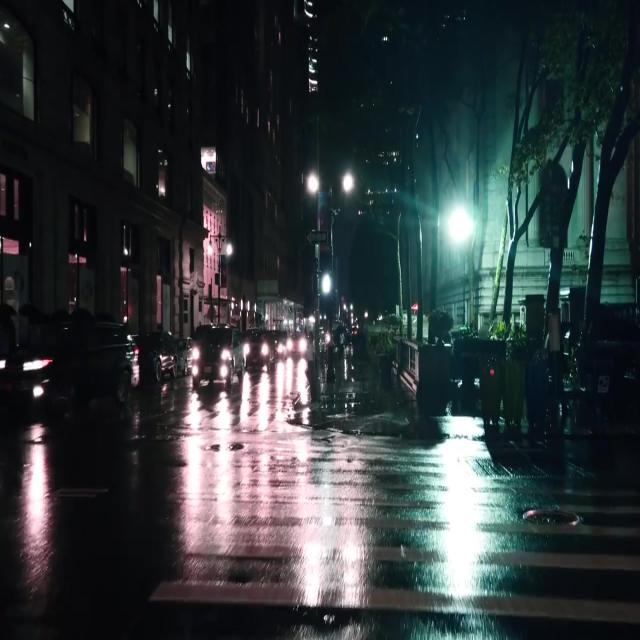Car: (8, 326, 135, 401), (187, 326, 244, 389), (240, 327, 275, 370)
